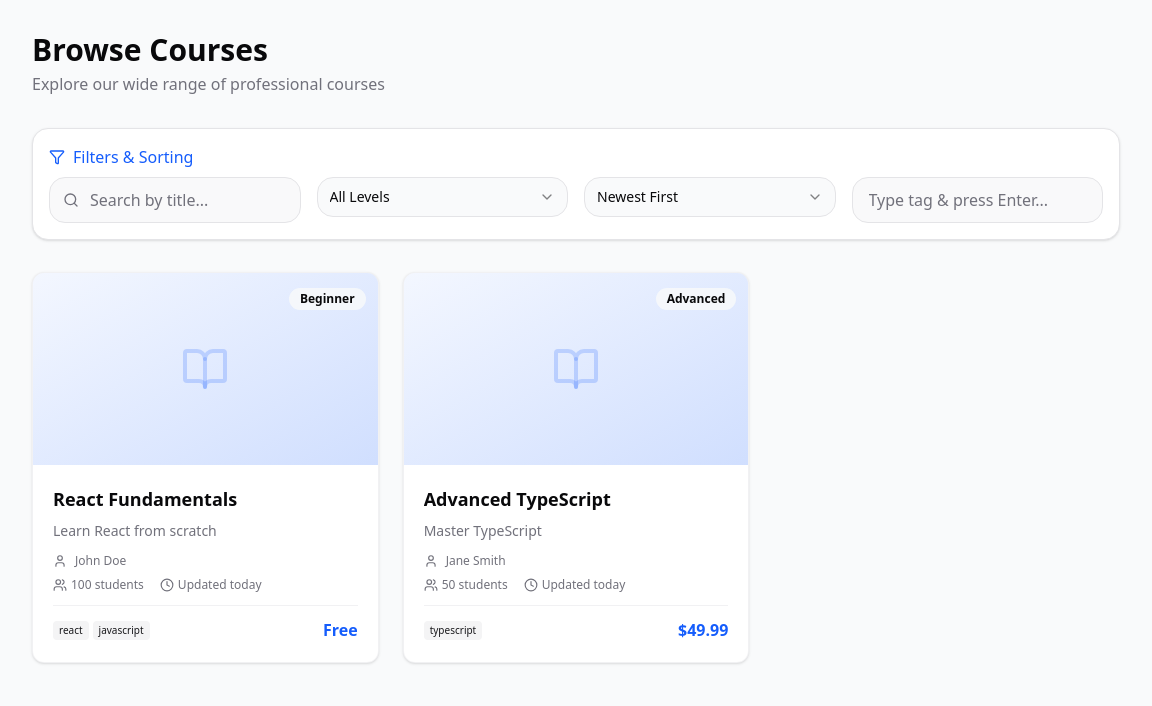
Test case: CoursesPage › allows adding tags
Expected: the heading "React Fundamentals" is shown, x1=53 y1=487 x2=237 y2=511
In the field with placeholder "Type tag & press Enter...": [977, 200] box x1=852 y1=177 x2=1103 y2=223, type "newtag"
Then press Enter
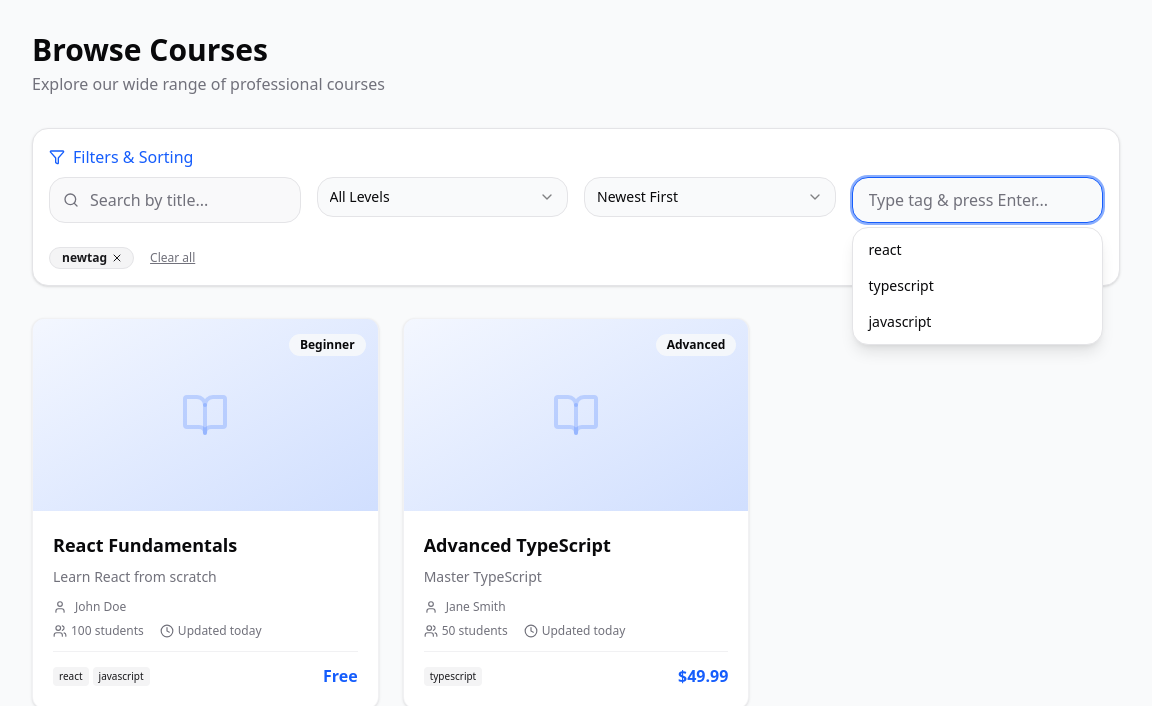
Now the text "newtag" is shown, box x1=49 y1=247 x2=134 y2=269
Now the button "Clear all" is shown, box x1=142 y1=247 x2=203 y2=269
